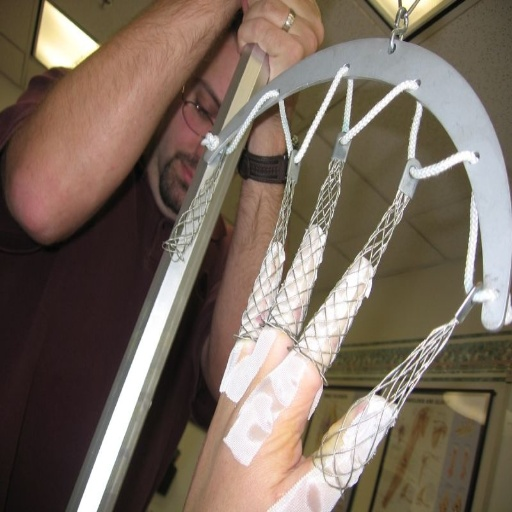hand: (181, 221, 394, 510), (233, 0, 325, 110)
